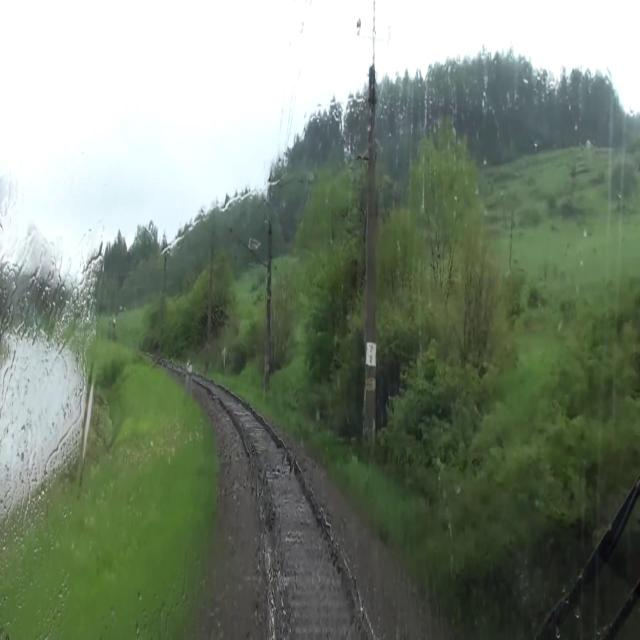rail-track: (193, 375, 370, 639)
